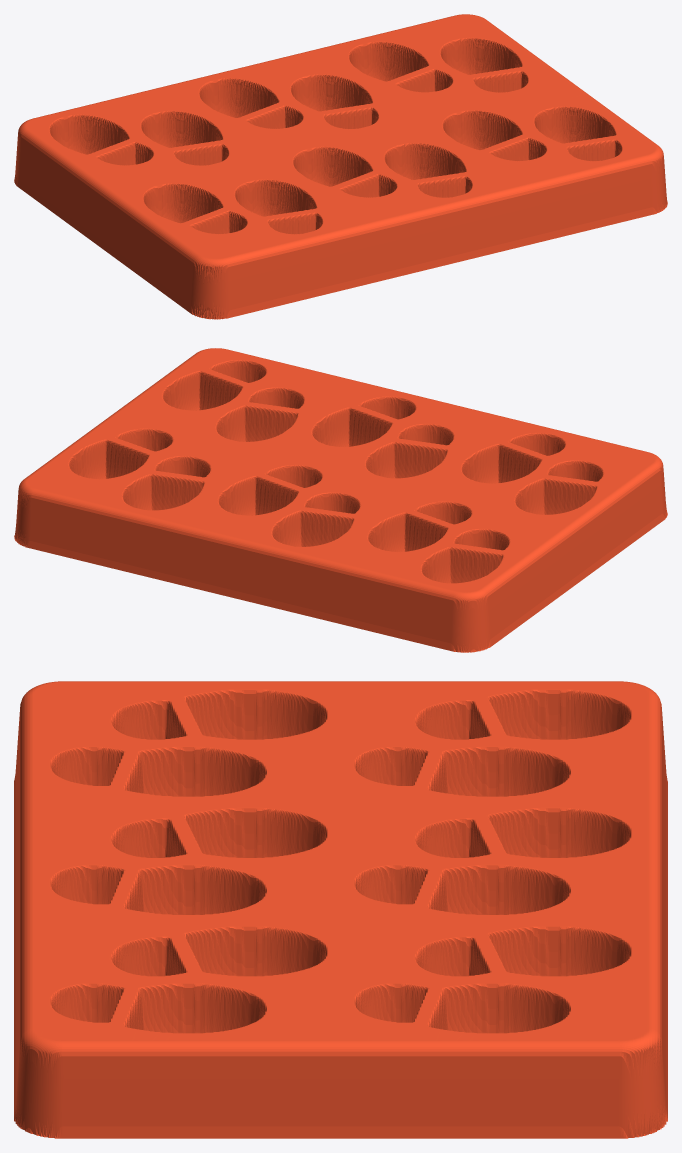
Rendered from mold.glb.
3 views of the same model, one above another, from view 1: azimuth 30°, elevation 25°; view 2: azimuth 150°, elevation 25°; view 3: azimuth 270°, elevation 25° (orthographic). The views are drawn at different scales.
Parts seen in each view (by area): view 1: geometry_0; view 2: geometry_0; view 3: geometry_0.
Part boxes in pixels (x1,y1,x2,y2): geometry_0: (14,14,667,319); geometry_0: (14,348,667,652); geometry_0: (14,681,667,1138).
Size of the model in its own units: 0.1657 by 0.0185 by 0.1222.
